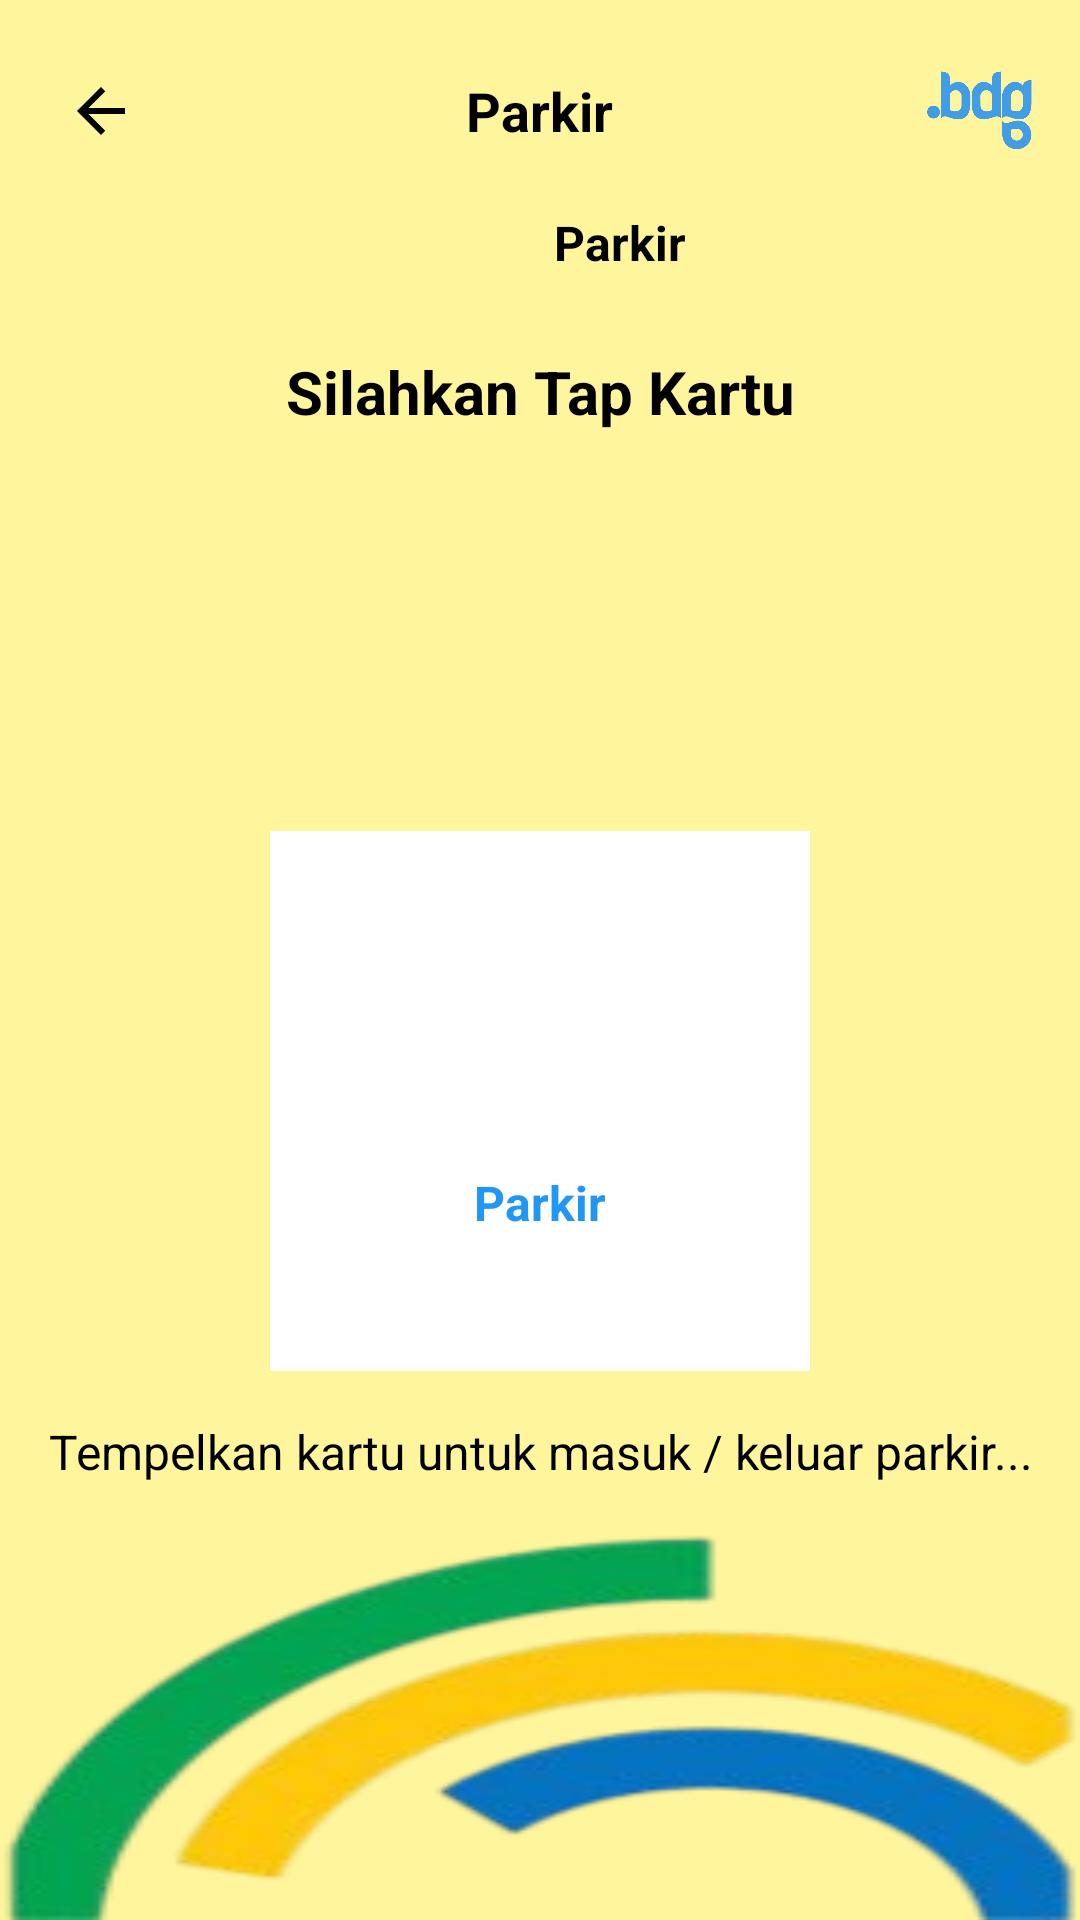

Point at icon controls on the screen. Image size 1080x1920, points as (x,y).
Tombol Kembali: (101,111)
